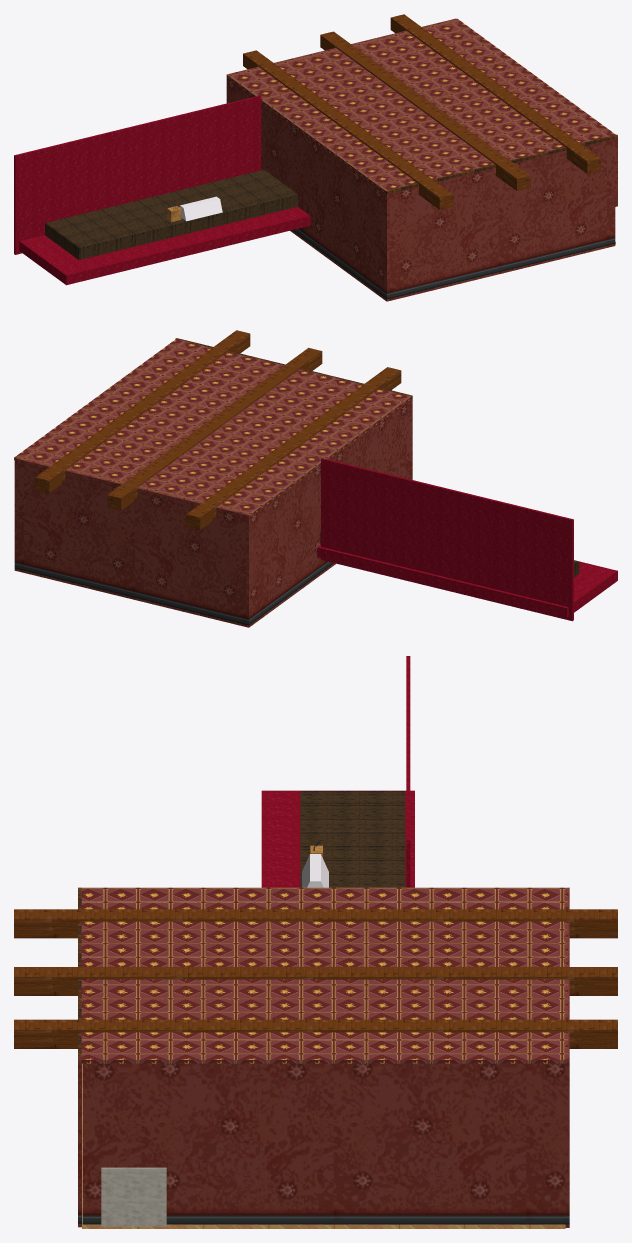
Rendered from Cardgame_brush.glb.
3 views of the same model, one above another, from view 1: azimuth 30°, elevation 25°; view 2: azimuth 150°, elevation 25°; view 3: azimuth 270°, elevation 25° (orthographic). The views are drawn at different scales.
Parts seen in each view (by area): view 1: Cardgame; view 2: Cardgame; view 3: Cardgame.
Boxes of the visible parts, left/top/right/bottom form: Cardgame: left=14, top=14, right=617, bottom=301; Cardgame: left=14, top=330, right=617, bottom=627; Cardgame: left=14, top=656, right=617, bottom=1228.
Bounding box in the file's own units: 3446 × 874 × 2370.
Materials: 17 (17 with a texture image).
